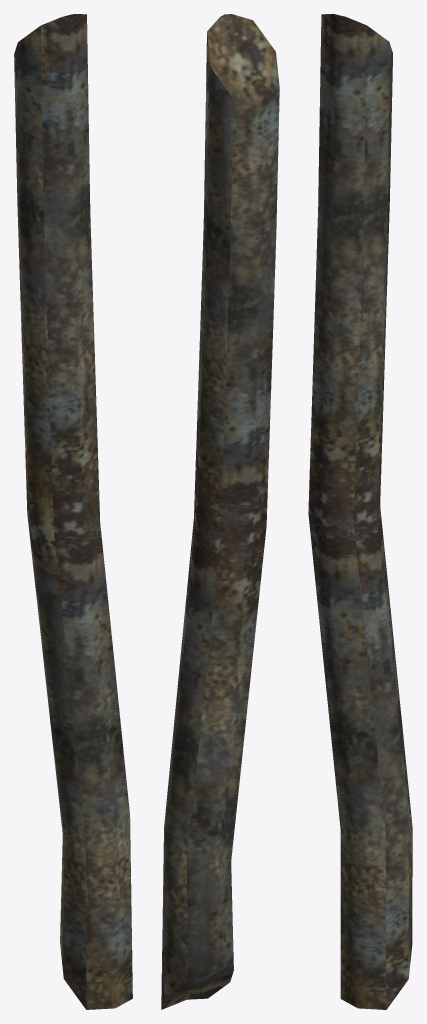
The model's file is item_steelpin01_whole.dae.
3 views of the same model, side by side, from view 1: azimuth 30°, elevation 25°; view 2: azimuth 210°, elevation 25°; view 3: azimuth 330°, elevation 25° (orthographic).
Visible parts, largest first — view 1: steelpinwhole; view 2: steelpinwhole; view 3: steelpinwhole.
Boxes of the visible parts, box(x1,y1,x2,y2) form: steelpinwhole: box(14, 14, 132, 1009); steelpinwhole: box(161, 14, 279, 1009); steelpinwhole: box(308, 14, 412, 1009).
Size of what is drawn, in the model's own units: 0.0986 by 0.9508 by 0.0886.
